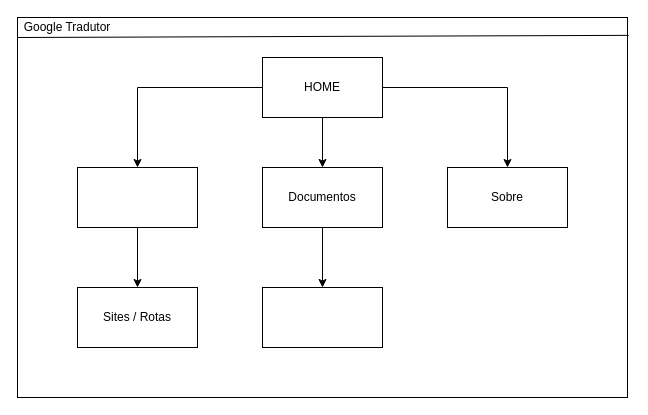
Image size: 648x415. Some labels were removed from this diagram. Each missing label, with the centre of its shape:
Consulados: the point at 137,197
Sites / Documentos: the point at 322,317
